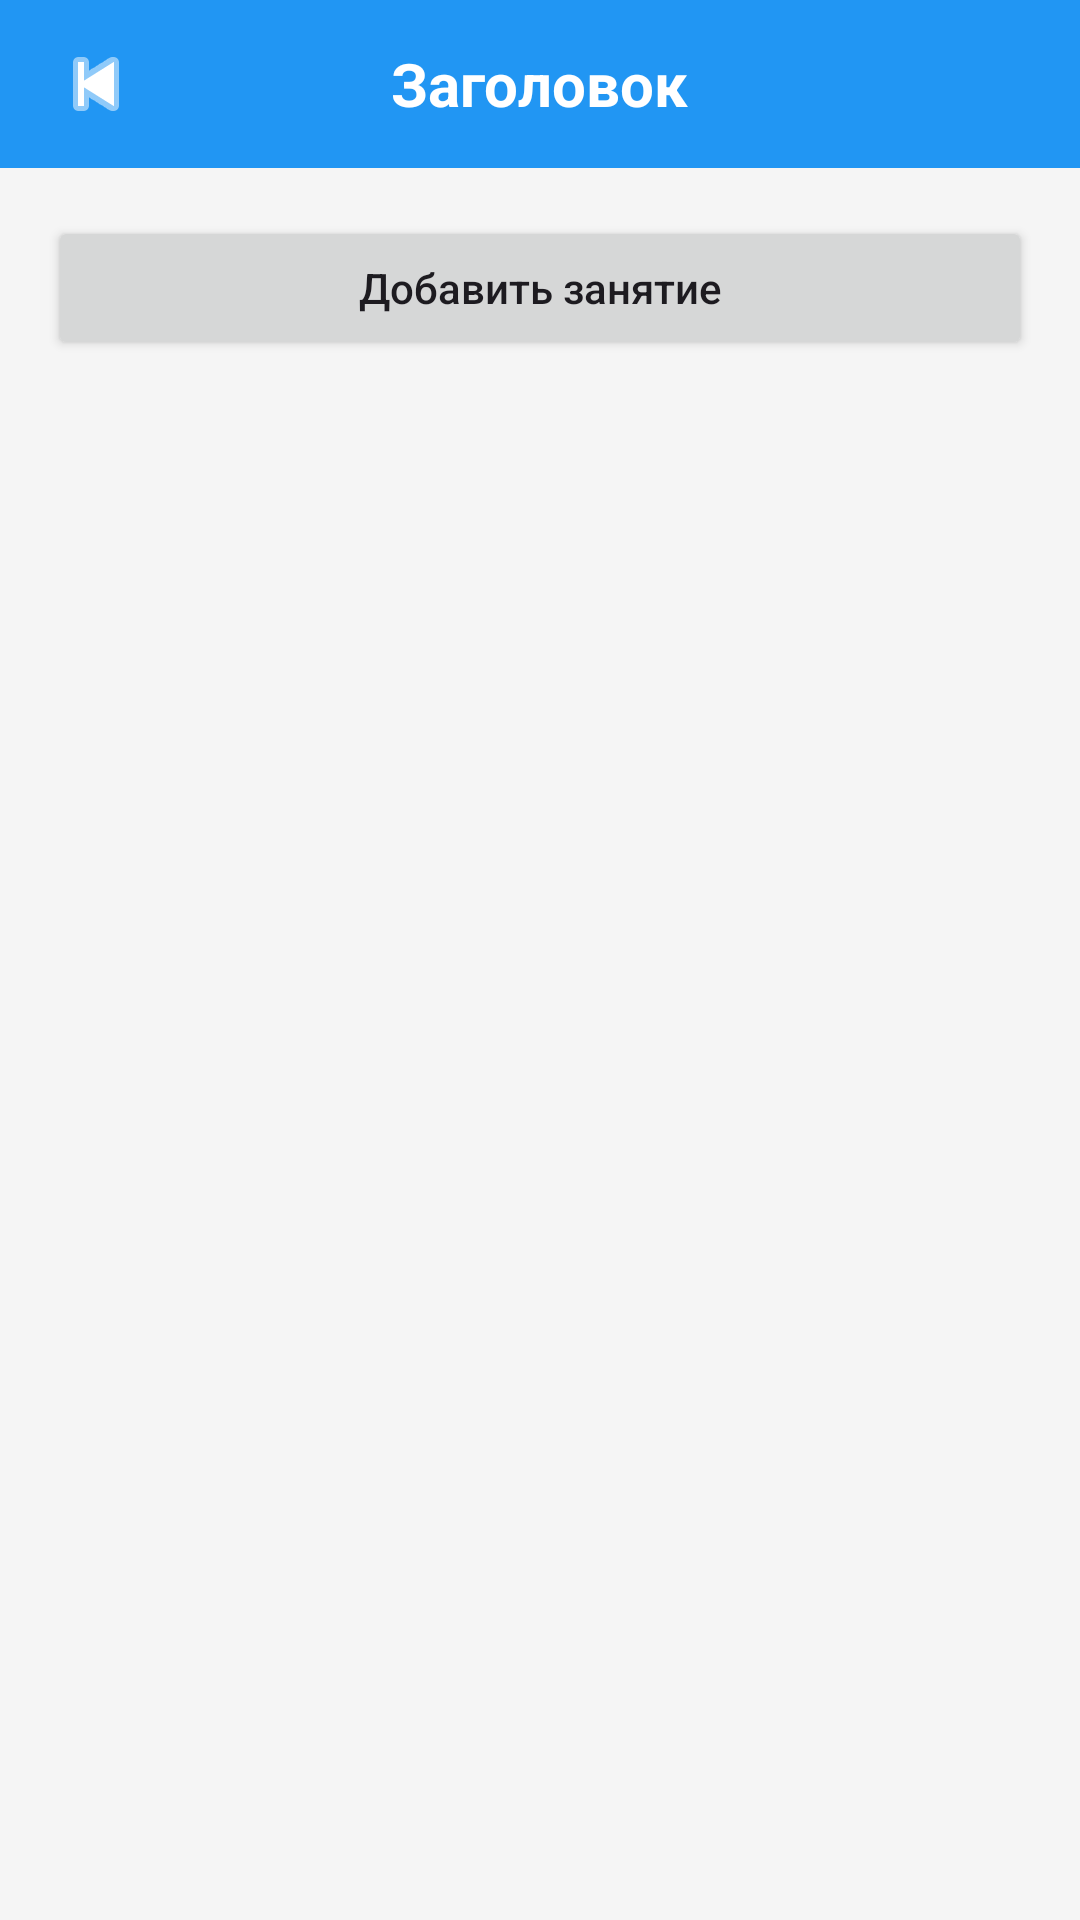

Screen size 1080×1920. Icon name, then its center in pixels as (x=x, y=y):
Назад: (x=96, y=84)
